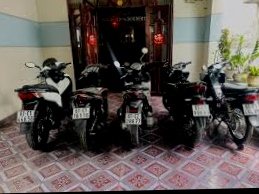Bien-so: (72, 106, 91, 120), (243, 103, 259, 117), (17, 110, 34, 123), (193, 104, 209, 117), (126, 114, 140, 125)
